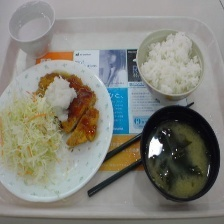rice: (139, 30, 203, 93)
